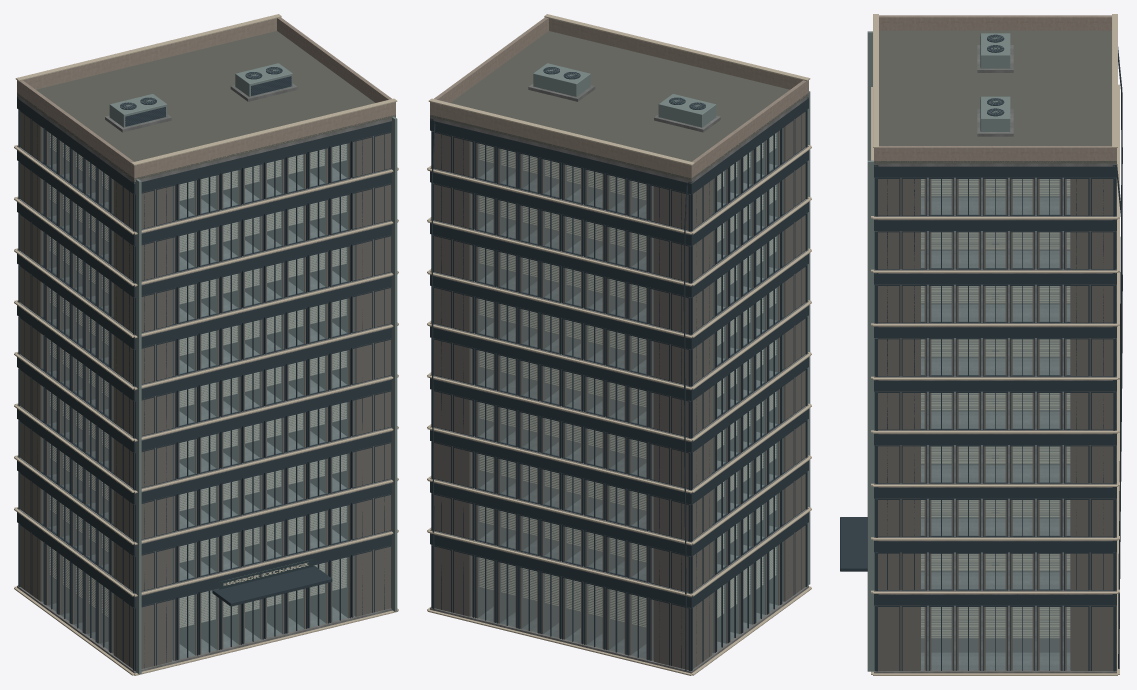
File: harbor-exchange-v2.glb
3 renders of one model, left to right at view 1: azimuth 30°, elevation 25°; view 2: azimuth 150°, elevation 25°; view 3: azimuth 270°, elevation 25°, orthographic. The views are drawn at different scales.
Parts seen in each view (by area): view 1: Powder_coated_aluminium (×19), Interior_plaster (×36), Office_glazing (×18), Concrete, Roof_membrane, Linen_curtains (×10), Plaster, Limestone (×10), Galvanised_metal, Exchange_sign_ink; view 2: Powder_coated_aluminium (×19), Interior_plaster (×36), Office_glazing (×18), Concrete, Roof_membrane, Linen_curtains (×10), Plaster, Limestone (×10), Galvanised_metal; view 3: Interior_plaster (×27), Powder_coated_aluminium (×10), Office_glazing (×9), Concrete, Roof_membrane, Linen_curtains (×9), Limestone (×10), Plaster, Galvanised_metal.
Part boxes in pixels (box(x1,y1,x2,y2)): Powder_coated_aluminium (×19): box(19, 67, 391, 670); Interior_plaster (×36): box(20, 111, 390, 668); Office_glazing (×18): box(42, 128, 355, 660); Concrete: box(17, 83, 395, 673); Roof_membrane: box(17, 31, 395, 180); Linen_curtains (×10): box(49, 144, 346, 627); Plaster: box(17, 17, 395, 179); Limestone (×10): box(15, 14, 398, 675); Galvanised_metal: box(109, 63, 397, 674); Exchange_sign_ink: box(218, 559, 313, 589); Powder_coated_aluminium (×19): box(431, 67, 806, 670); Interior_plaster (×36): box(433, 111, 805, 669); Office_glazing (×18): box(470, 128, 783, 660); Concrete: box(430, 83, 808, 673); Roof_membrane: box(430, 31, 808, 180); Linen_curtains (×10): box(479, 144, 776, 627); Plaster: box(430, 17, 808, 179); Limestone (×10): box(427, 14, 810, 675); Galvanised_metal: box(533, 63, 810, 585); Interior_plaster (×27): box(877, 177, 1114, 670); Powder_coated_aluminium (×10): box(840, 34, 1122, 670); Office_glazing (×9): box(921, 179, 1070, 670); Concrete: box(874, 45, 1116, 673); Roof_membrane: box(874, 30, 1116, 164); Linen_curtains (×9): box(921, 179, 1070, 638); Limestone (×10): box(873, 14, 1117, 675); Plaster: box(874, 15, 1116, 162); Galvanised_metal: box(867, 31, 1010, 671).
Bounding box in the file's own units: 18.34 × 33.82 × 16.28.
12 materials, 3 textured.
